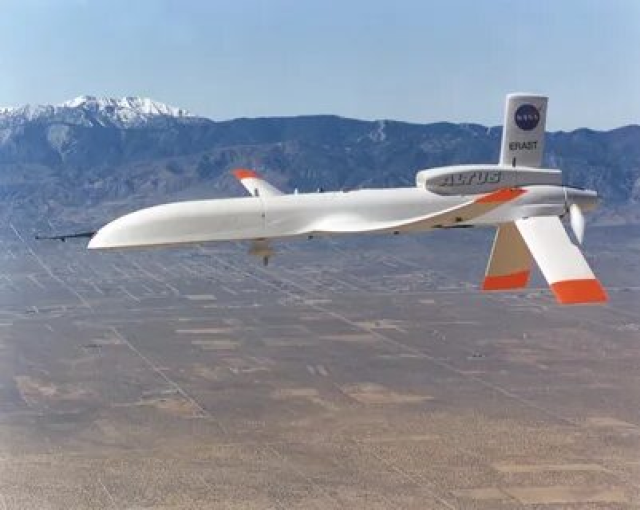military drone: (36, 91, 611, 305)
